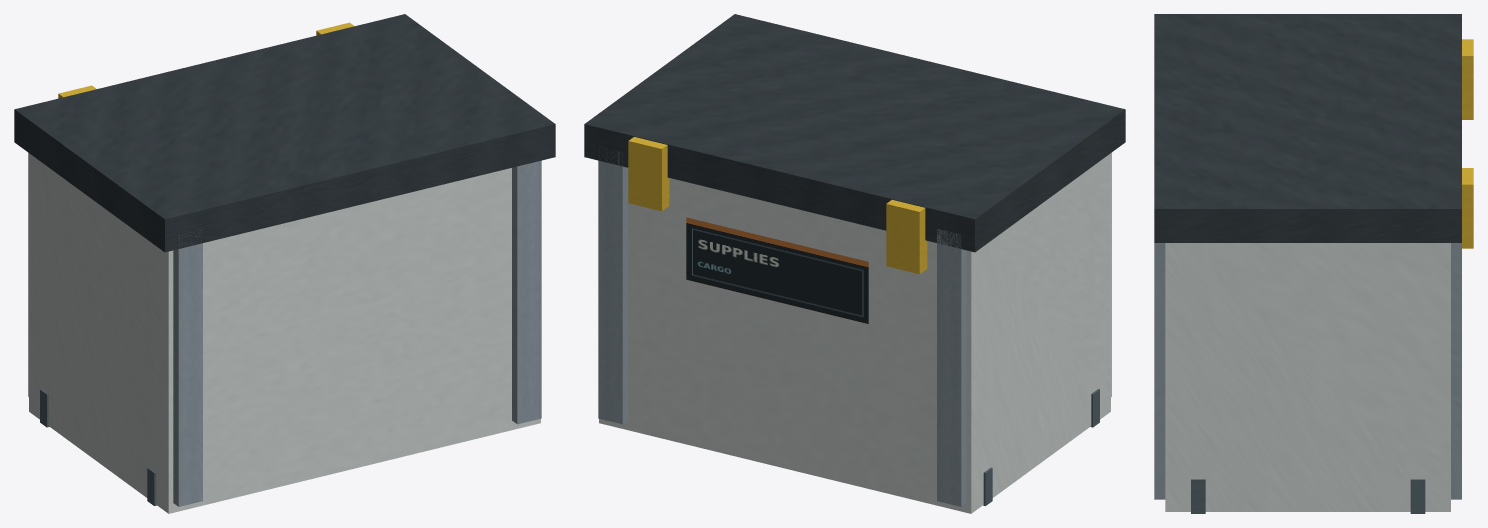
Rendered from cargo_crate_large.glb.
3 renders of one model, left to right at view 1: azimuth 30°, elevation 25°; view 2: azimuth 150°, elevation 25°; view 3: azimuth 270°, elevation 25°, orthographic. The views are drawn at different scales.
Visible parts, largest first — view 1: main_shell_ceramic, lid_graphite, reinforced_corner_rails_steel, reinforcing_bands_metal_dark; view 2: main_shell_ceramic, lid_graphite, reinforced_corner_rails_steel, cargo_marking_LABEL_SUPPLIES, lid_latches_hazard, reinforcing_bands_metal_dark; view 3: main_shell_ceramic, lid_graphite, reinforced_corner_rails_steel, lid_latches_hazard, reinforcing_bands_metal_dark.
Boxes of the visible parts, x1,y1,x2,y2 form: main_shell_ceramic: (29, 153, 540, 513); lid_graphite: (14, 14, 555, 252); reinforced_corner_rails_steel: (28, 153, 541, 506); reinforcing_bands_metal_dark: (40, 389, 156, 505); main_shell_ceramic: (599, 153, 1110, 513); lid_graphite: (584, 14, 1125, 252); reinforced_corner_rails_steel: (598, 147, 1111, 506); cargo_marking_LABEL_SUPPLIES: (686, 217, 868, 323); lid_latches_hazard: (628, 137, 927, 274); reinforcing_bands_metal_dark: (983, 389, 1099, 505); main_shell_ceramic: (1165, 243, 1450, 511); lid_graphite: (1154, 14, 1461, 242); reinforced_corner_rails_steel: (1154, 243, 1461, 499); lid_latches_hazard: (1462, 39, 1473, 248); reinforcing_bands_metal_dark: (1191, 479, 1425, 513).
Size of the model in its own units: 1.05 by 0.775 by 0.7265.
6 materials, 6 textured.
